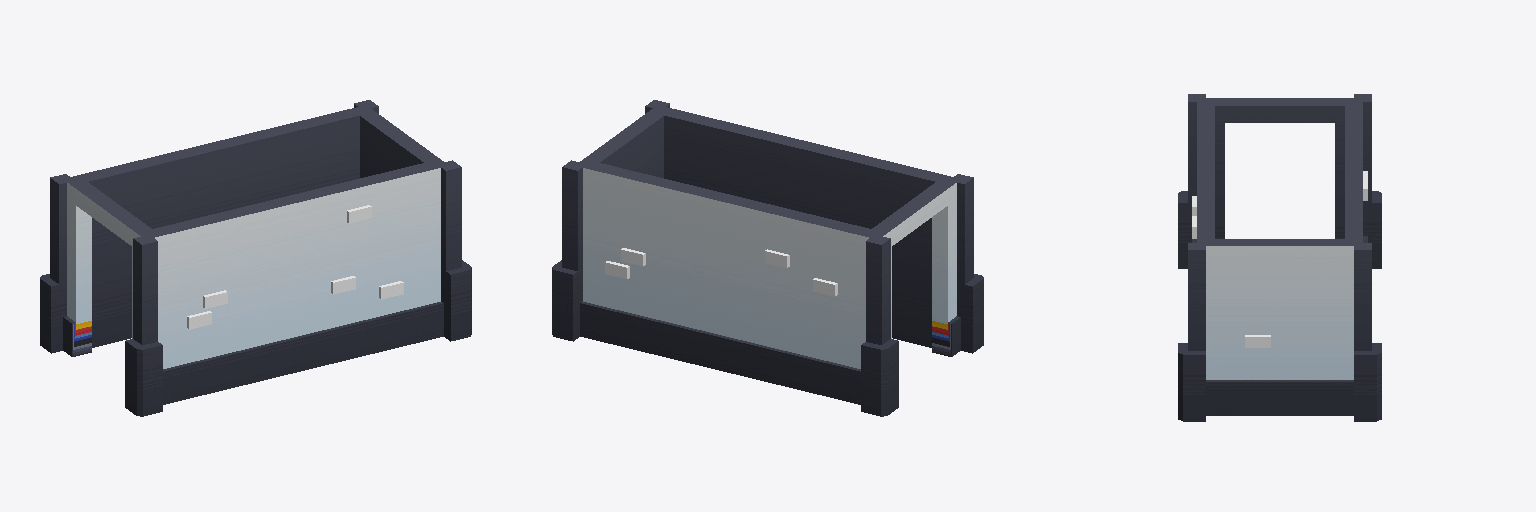
The picture shows the model from 3 angles: view 1: azimuth 30°, elevation 25°; view 2: azimuth 150°, elevation 25°; view 3: azimuth 270°, elevation 25°; orthographic projection.
Parts seen in each view (by area): view 1: crypt-large; view 2: crypt-large; view 3: crypt-large.
Boxes of the visible parts, box(x1,y1,x2,y2) form: crypt-large: box(40, 100, 471, 416); crypt-large: box(552, 100, 983, 416); crypt-large: box(1178, 94, 1381, 421).
Size of the model in its own units: 5.14 by 2.45 by 2.69.
1 materials, 1 textured.